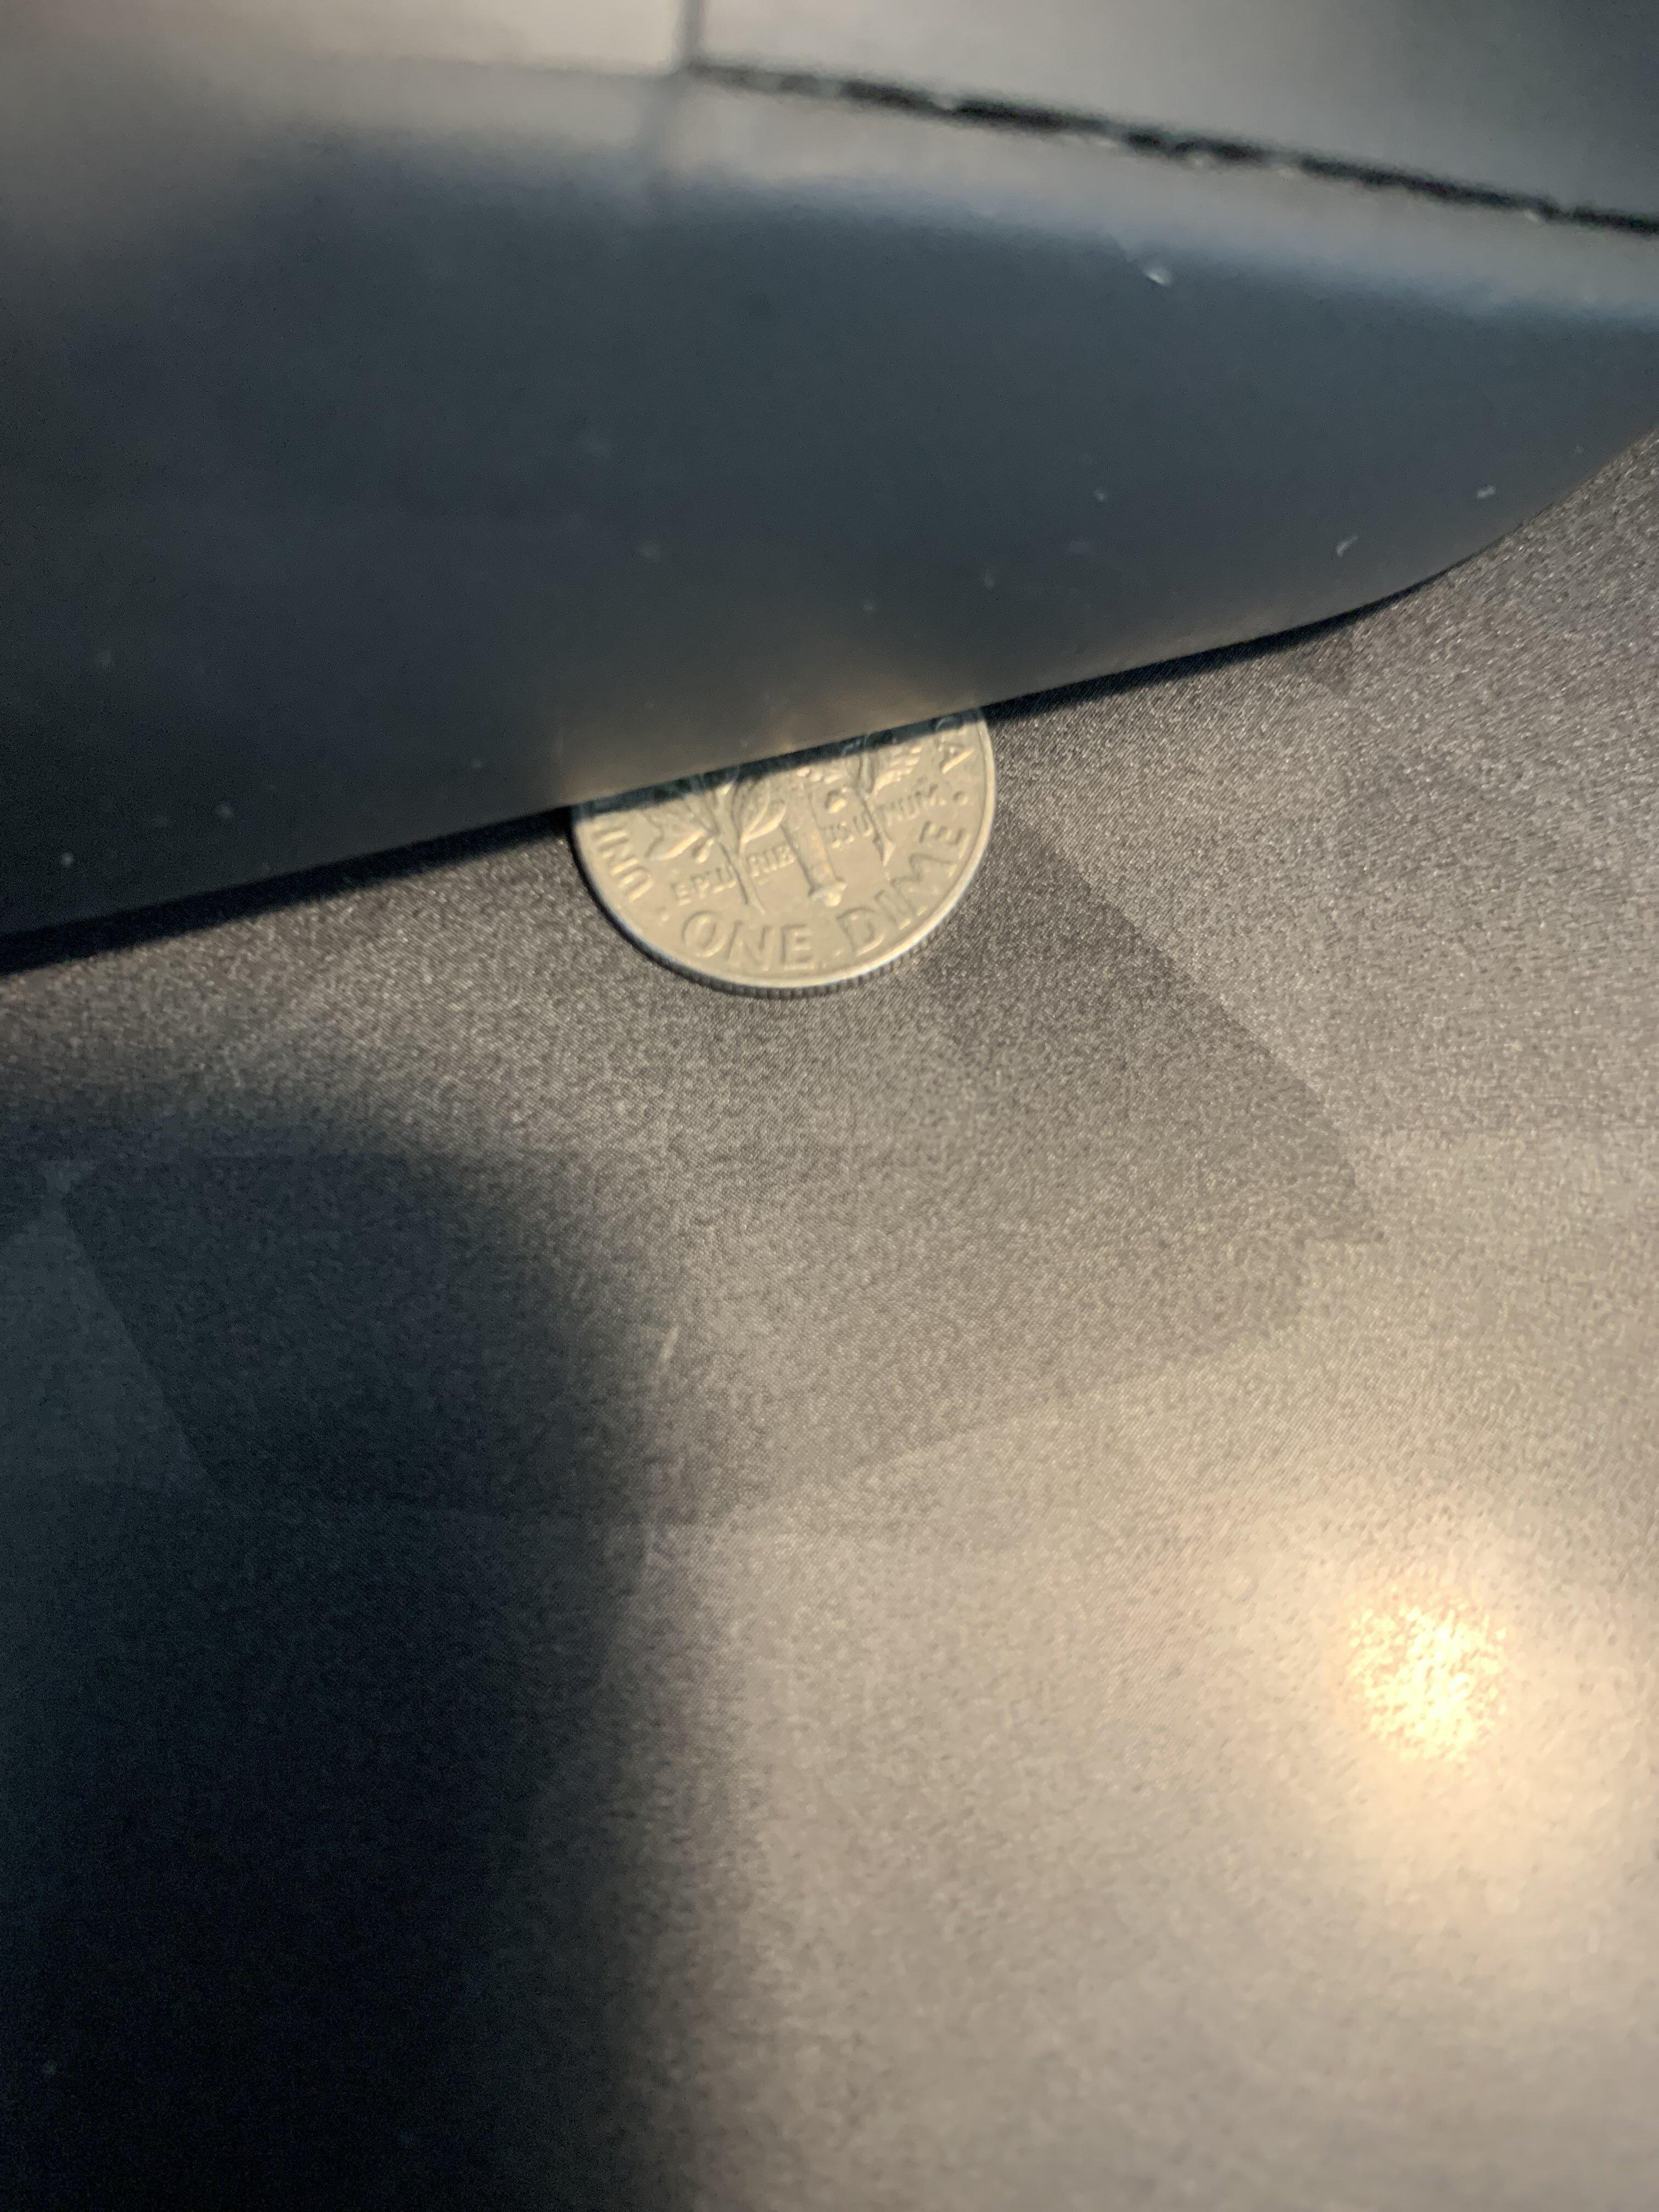Dime: (455, 603, 1150, 1122)
